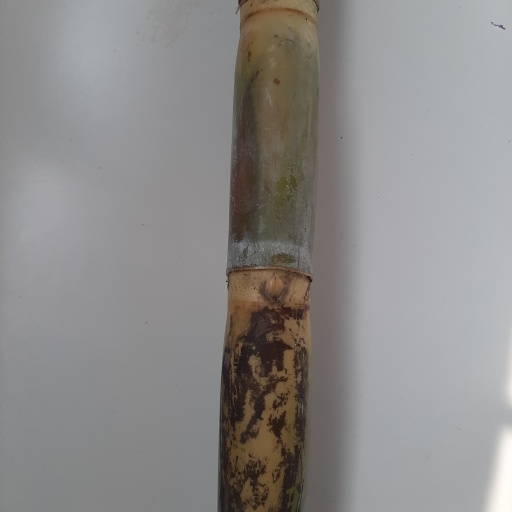Bud: (262, 273, 287, 303)
